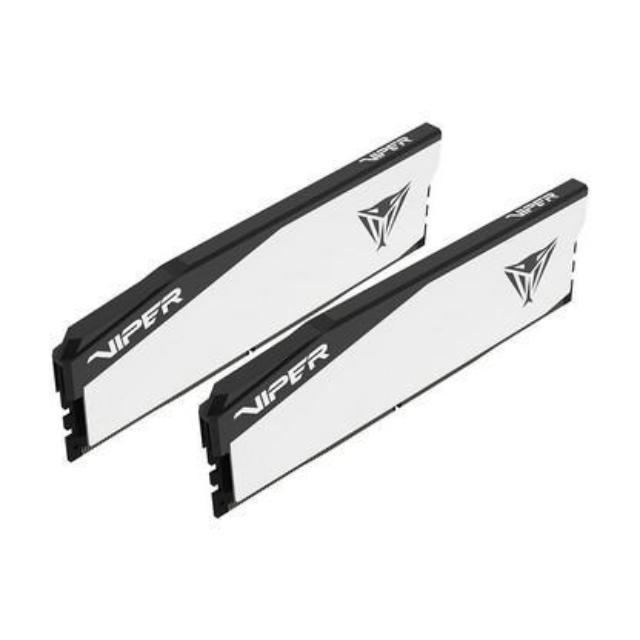RAM: (38, 118, 608, 518)
